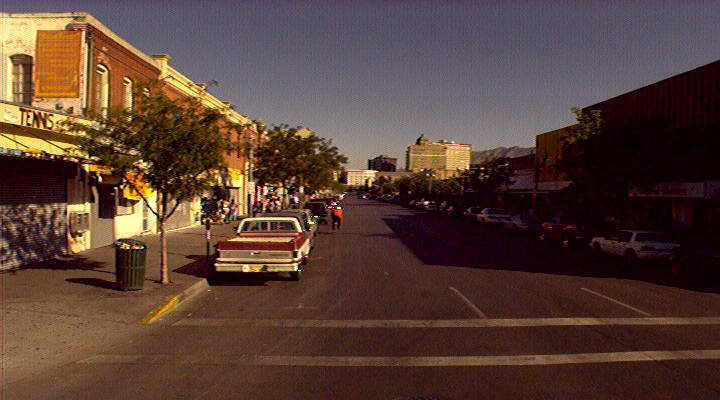Ramp: (1, 303, 174, 386)
